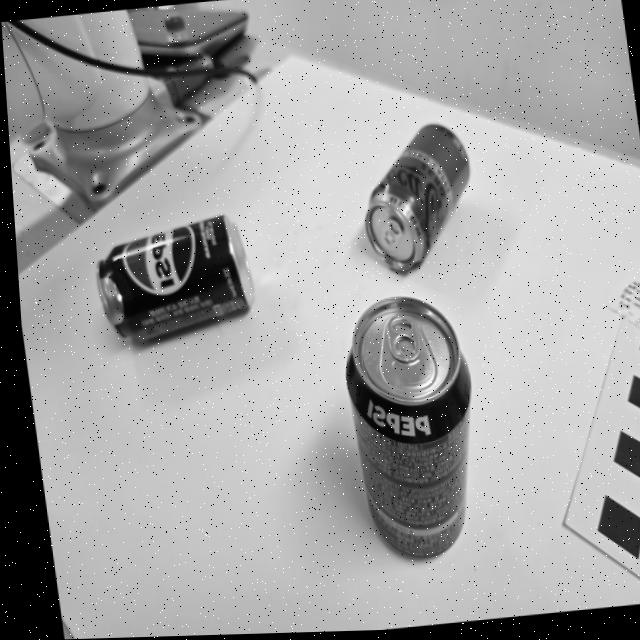can_coke_decaf: (364, 122, 471, 269)
can_pepsi: (347, 296, 470, 554)
can_pepsi_zero: (96, 214, 251, 345)
